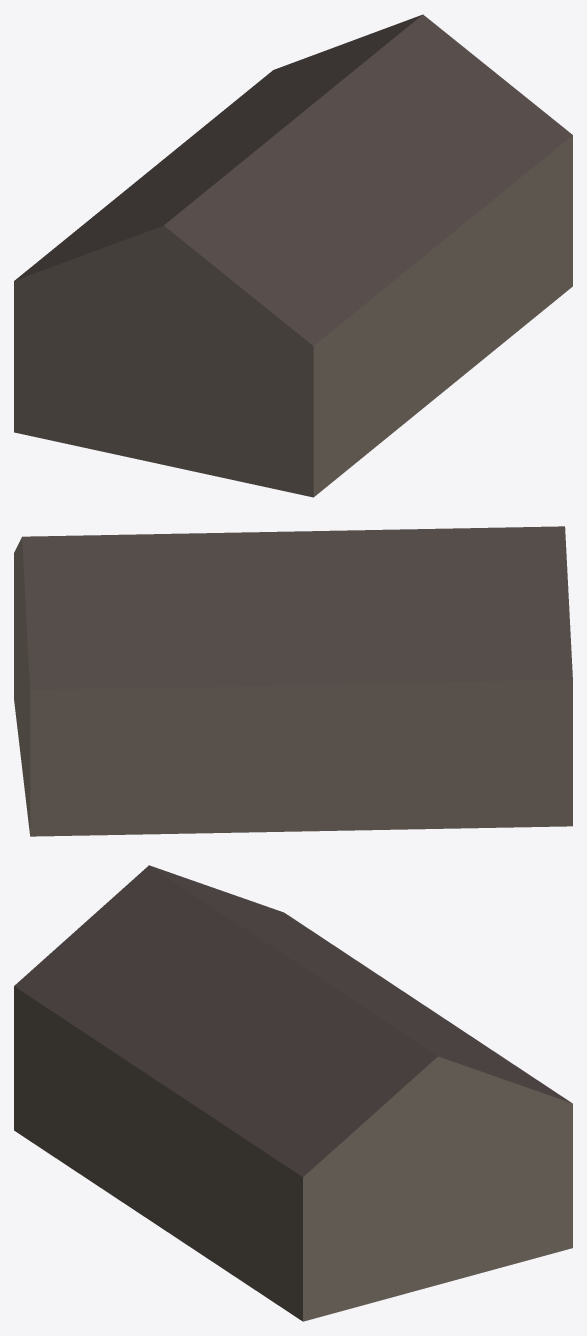
3 views of the same model, one above another, from view 1: azimuth 30°, elevation 25°; view 2: azimuth 150°, elevation 25°; view 3: azimuth 270°, elevation 25° (orthographic). The views are drawn at different scales.
Parts seen in each view (by area): view 1: HP-w369342508; view 2: HP-w369342508; view 3: HP-w369342508.
Boxes of the visible parts, x1,y1,x2,y2 form: HP-w369342508: (14, 14, 572, 497); HP-w369342508: (14, 526, 572, 836); HP-w369342508: (14, 865, 572, 1321).
Size of the model in its own units: 23.6 by 9.49 by 21.05.
